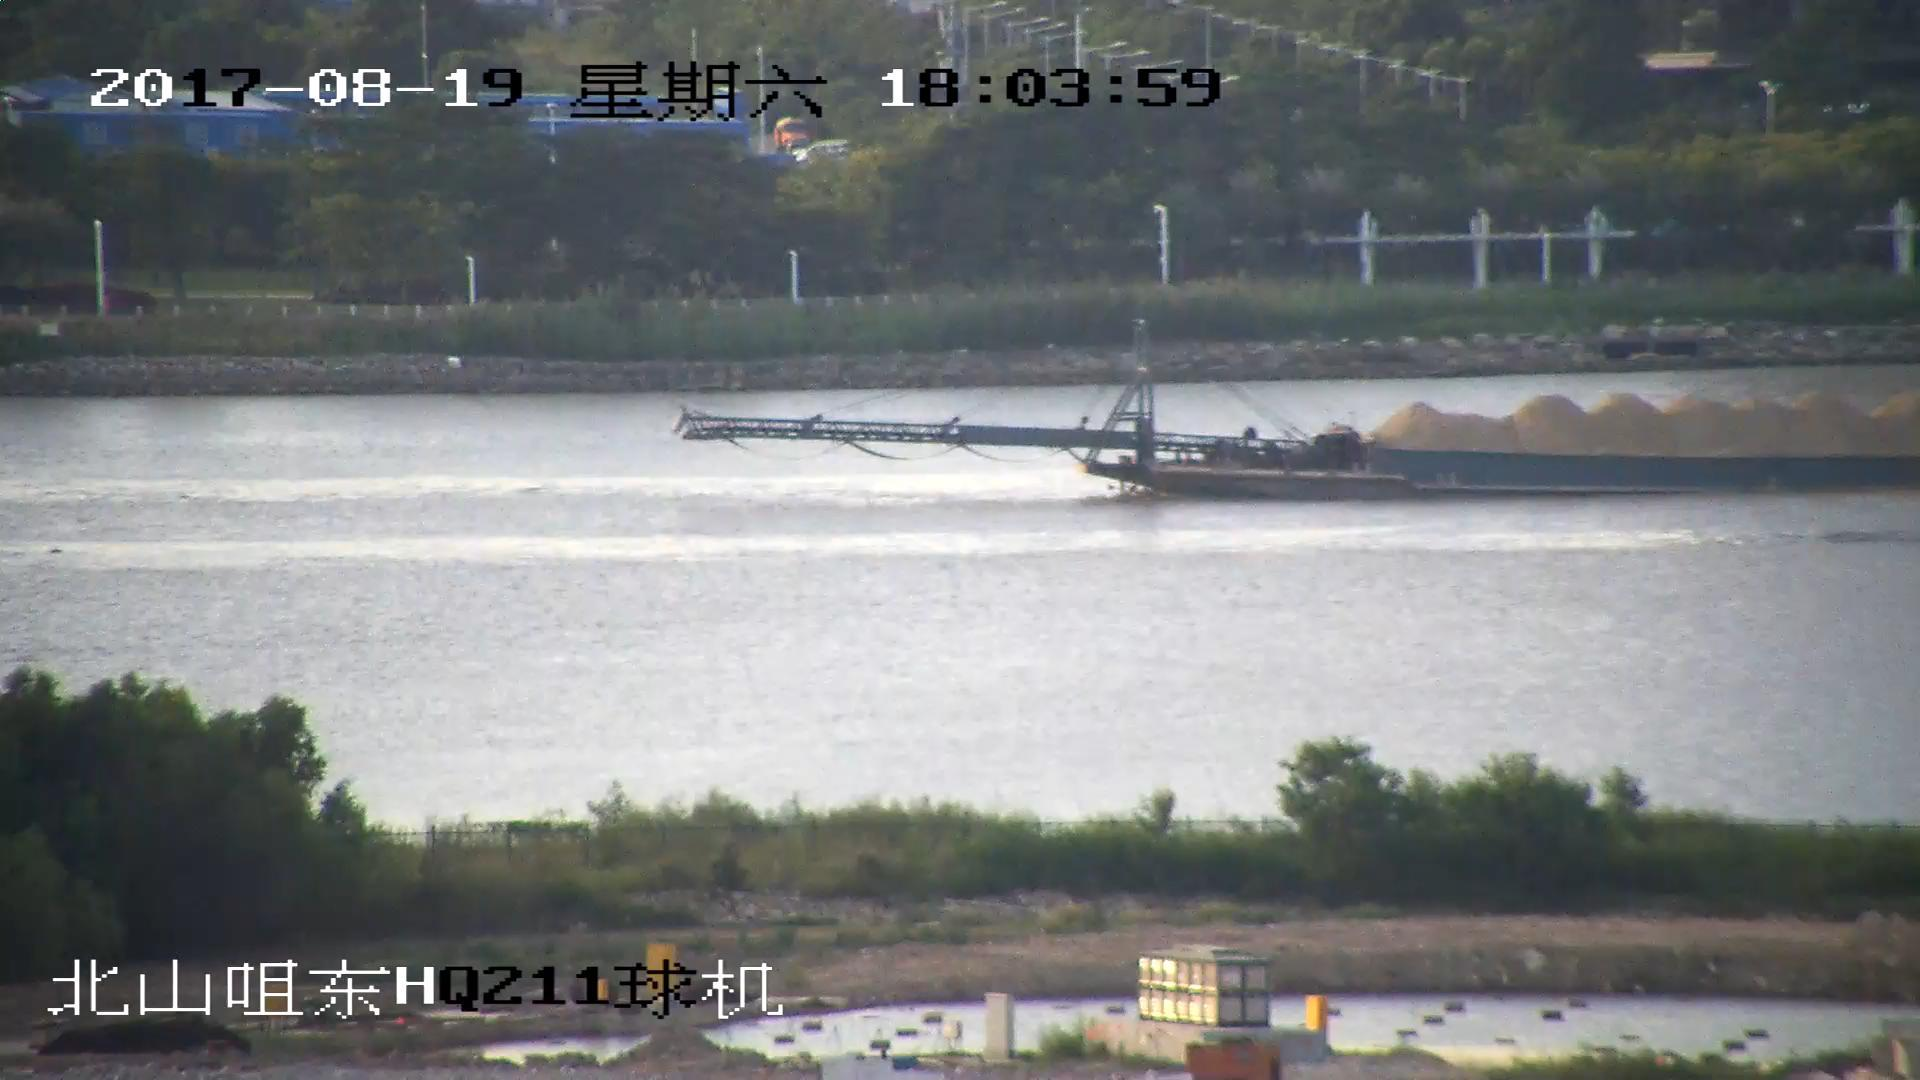Ship: (682, 331, 1920, 502)
